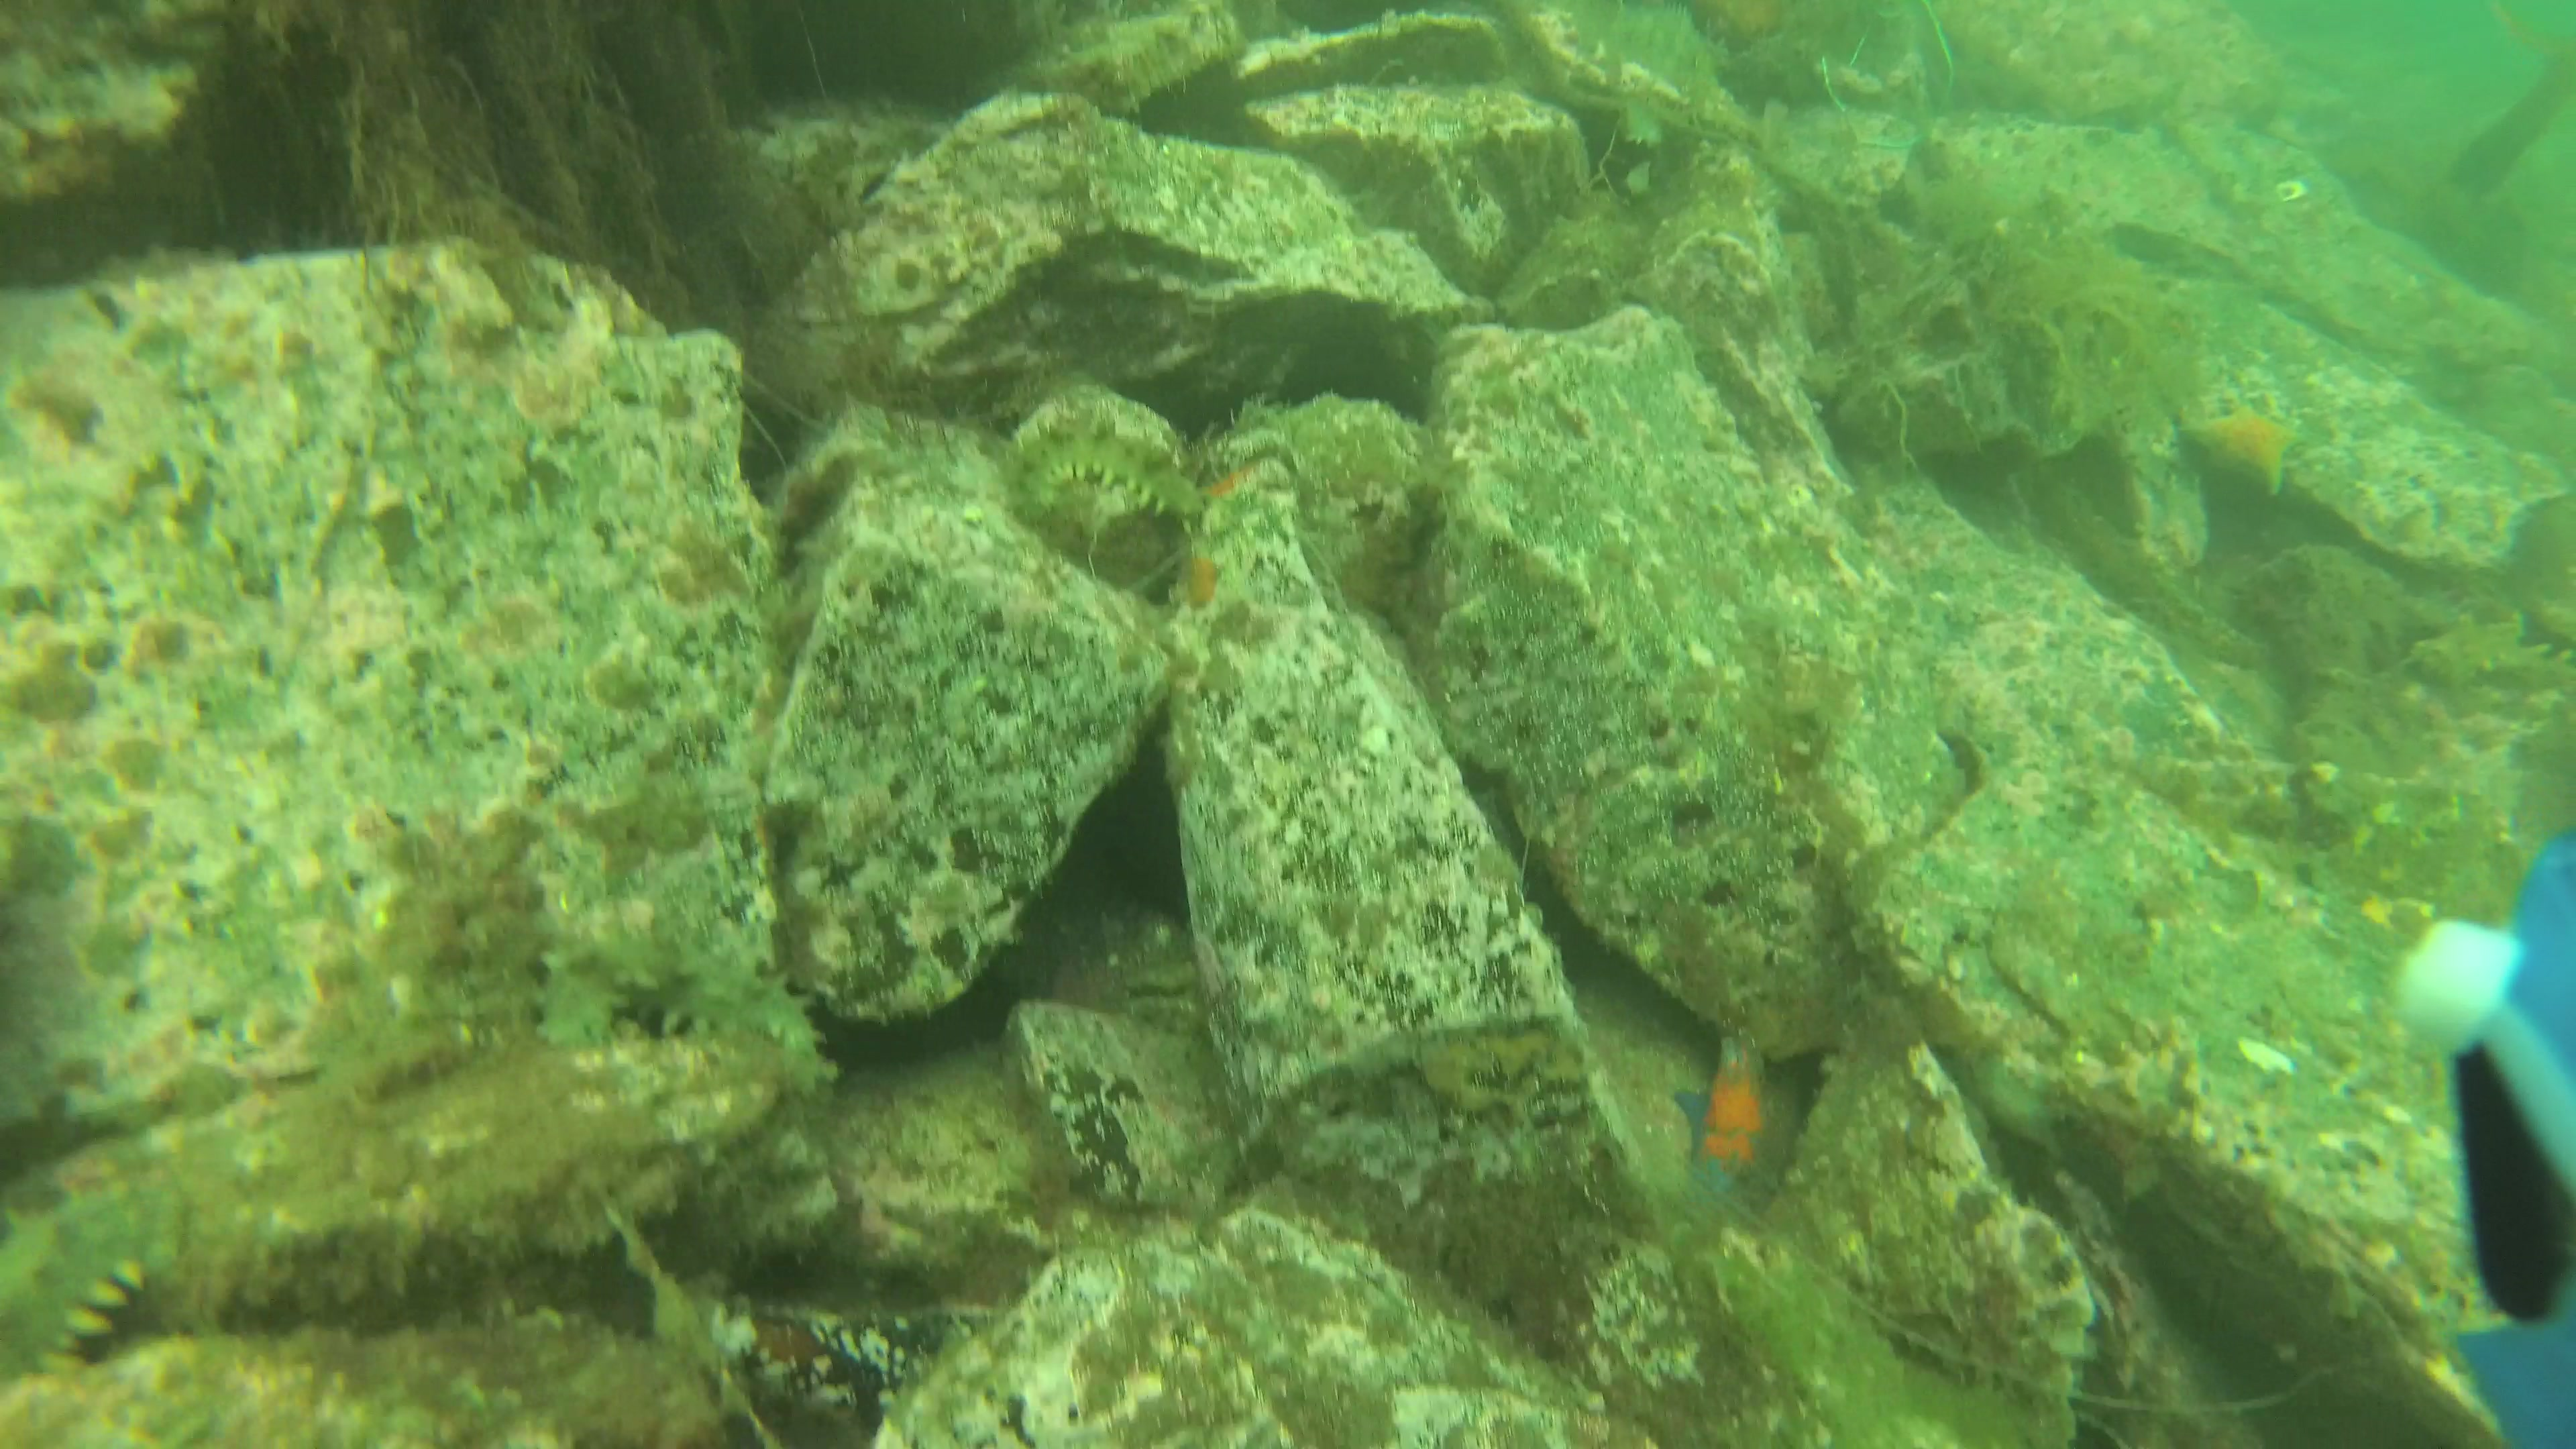holothurian: (533, 906, 817, 1063), (9, 1180, 180, 1391), (989, 419, 1214, 545)
starfish: (1667, 1033, 1798, 1208), (2173, 387, 2316, 499)
